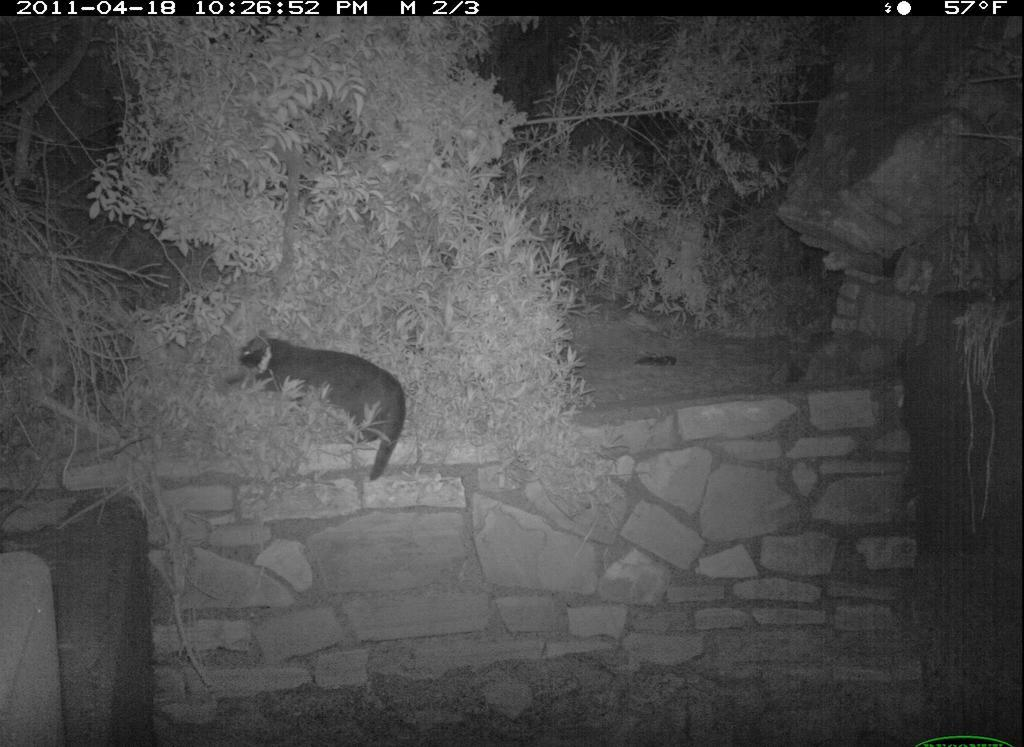cat: (230, 328, 409, 486)
